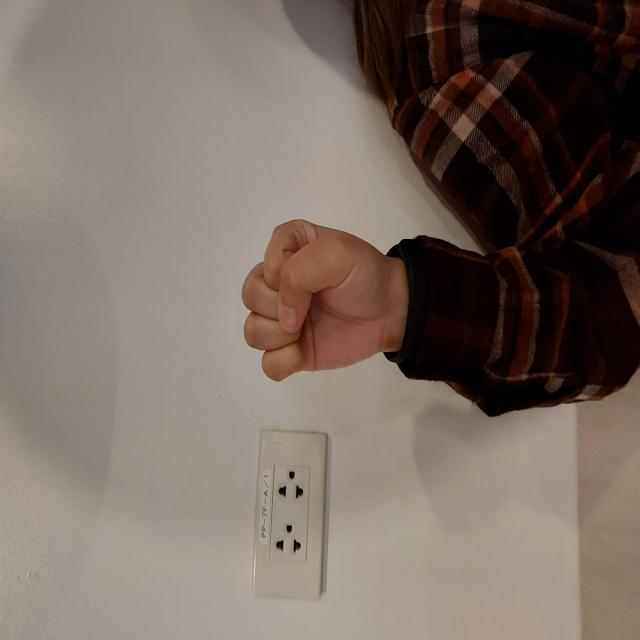S: (255, 238, 425, 400)
